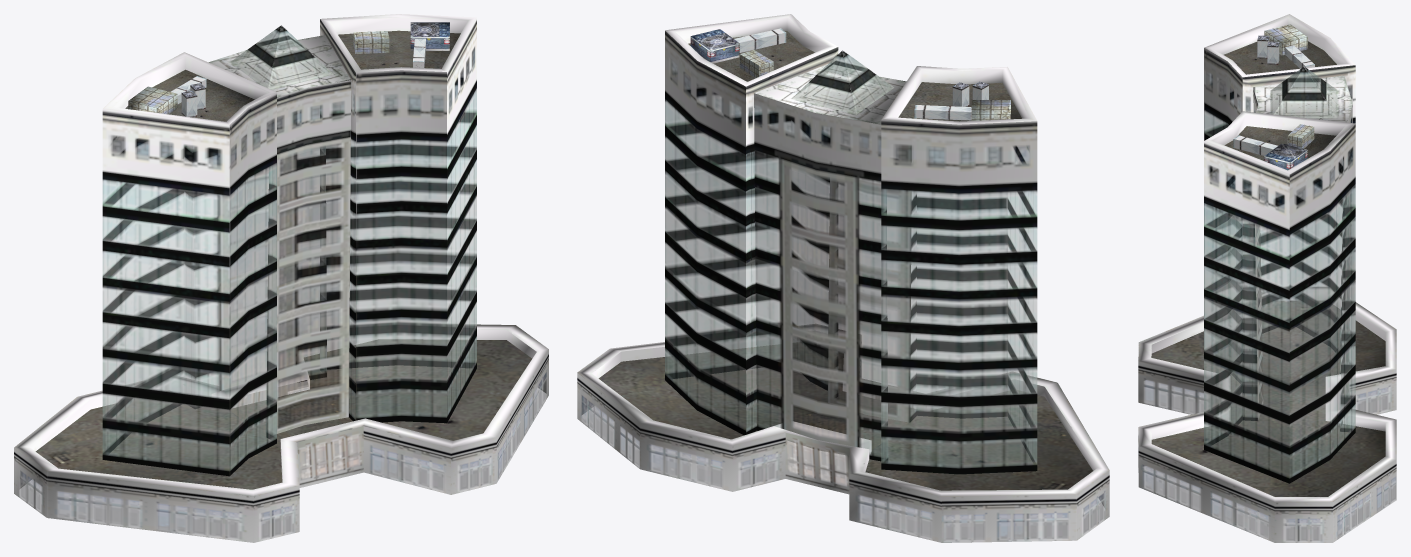
Rendered from Civilian - Civilian Building - SSCRAP 02 - CBSSCRAP02.glb.
3 renders of one model, left to right at view 1: azimuth 30°, elevation 25°; view 2: azimuth 150°, elevation 25°; view 3: azimuth 270°, elevation 25°, orthographic. The views are drawn at different scales.
Parts seen in each view (by area): view 1: CBSSCRAP02; view 2: CBSSCRAP02; view 3: CBSSCRAP02.
Boxes of the visible parts, x1,y1,x2,y2 form: CBSSCRAP02: (14,14,548,542); CBSSCRAP02: (577,14,1109,542); CBSSCRAP02: (1138,14,1396,542).
Bounding box in the file's own units: 146 × 116 × 73.75.
Materials: 1 (1 with a texture image).
